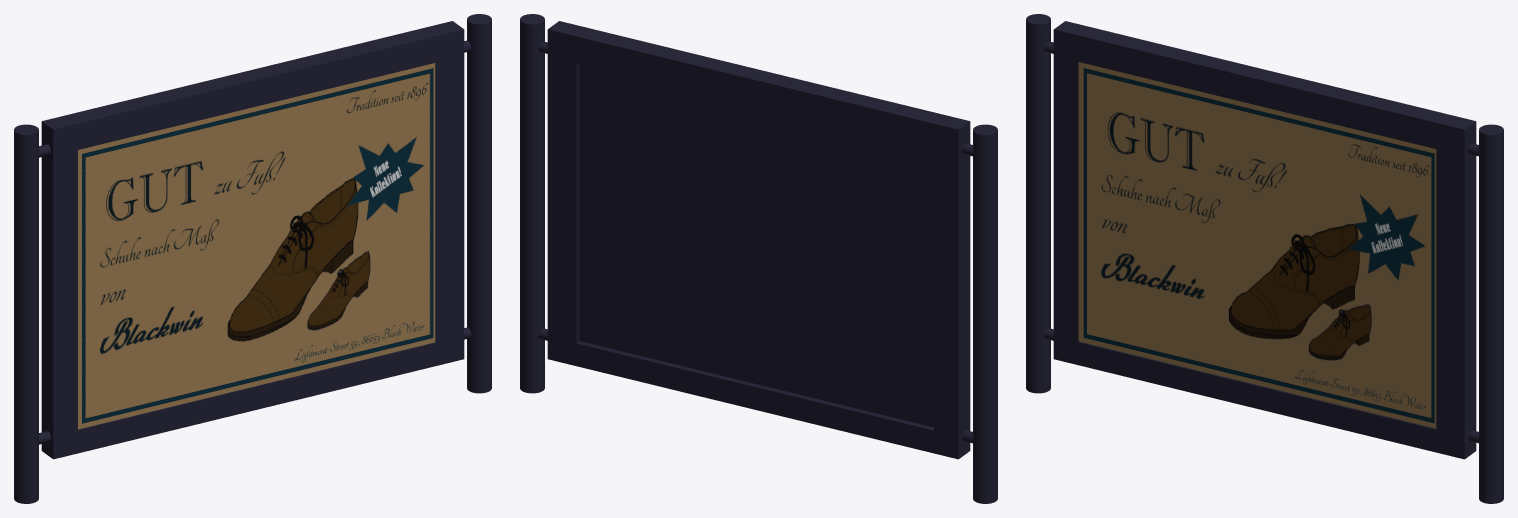
The model's file is WtGR_OxfordPlane.fbx.
3 renders of one model, left to right at view 1: azimuth 30°, elevation 25°; view 2: azimuth 150°, elevation 25°; view 3: azimuth 330°, elevation 25°, orthographic.
Visible parts, largest first — view 1: polySurface33; view 2: polySurface33; view 3: polySurface33.
Boxes of the visible parts, bbox=[...] form: polySurface33: bbox=[14, 14, 491, 503]; polySurface33: bbox=[520, 14, 997, 503]; polySurface33: bbox=[1026, 14, 1503, 503].
Size of the model in its own units: 482 by 358 by 22.03.
Materials: 2 (1 with a texture image).
